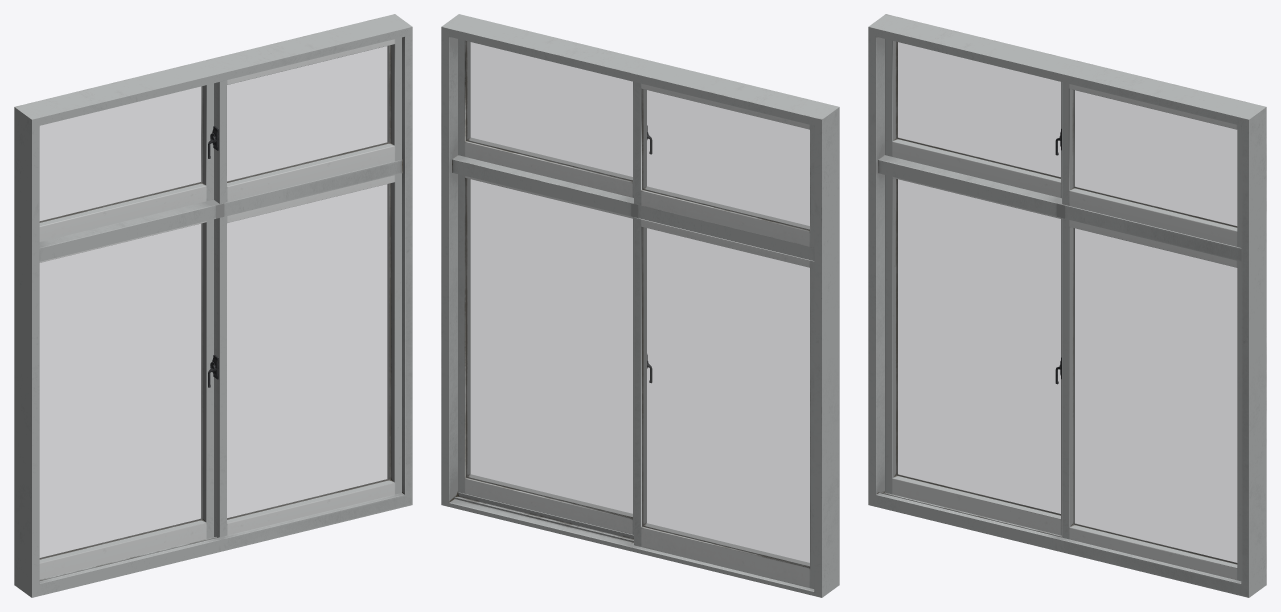
Rendered from M_Window02.FBX.
3 views of the same model, side by side, from view 1: azimuth 30°, elevation 25°; view 2: azimuth 150°, elevation 25°; view 3: azimuth 330°, elevation 25° (orthographic).
Visible parts, largest first — view 1: Window_01_150; view 2: Window_01_150; view 3: Window_01_150.
Part boxes in pixels (x1,y1,x2,y2): Window_01_150: (14,14,412,597); Window_01_150: (441,14,839,597); Window_01_150: (868,14,1266,597).
Bounding box in the file's own units: 150 × 180 × 12.
